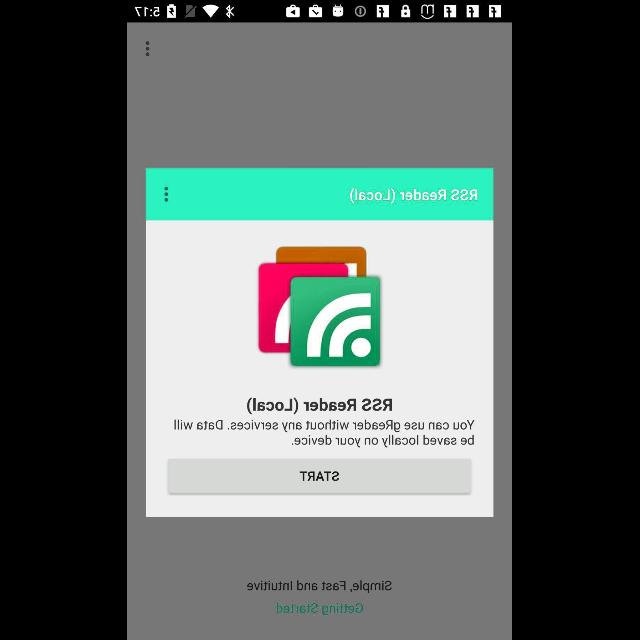icon: (146, 41, 150, 57), (165, 186, 169, 202)
image: (256, 245, 384, 369)
panel: (146, 168, 494, 518)
text: (175, 419, 475, 445), (248, 397, 392, 415), (248, 580, 392, 594), (352, 188, 478, 204), (278, 602, 364, 616)
textbutton: (170, 459, 472, 495)
uppertaskbar: (128, 1, 512, 23)
